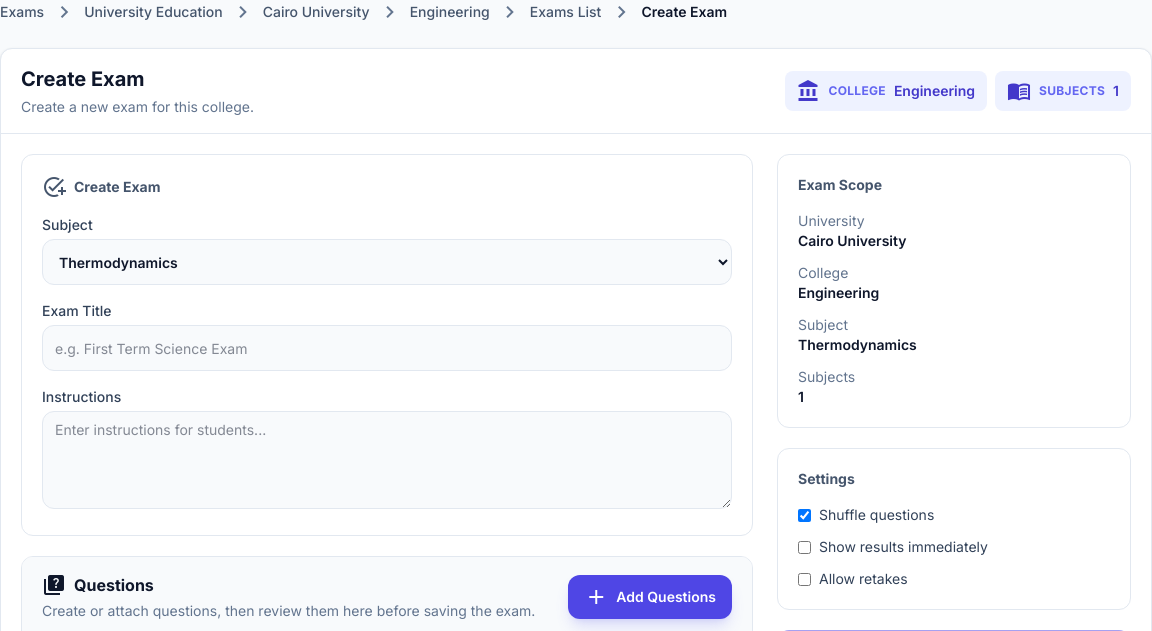
Scenario: TenantExamsBasicEducationExamCreateComponent › opens the selectable questions drawer for university exam saved questions
The image size is (1152, 631).
Click the button "Add Questions".
click(650, 597)  # box [568, 575, 732, 619]
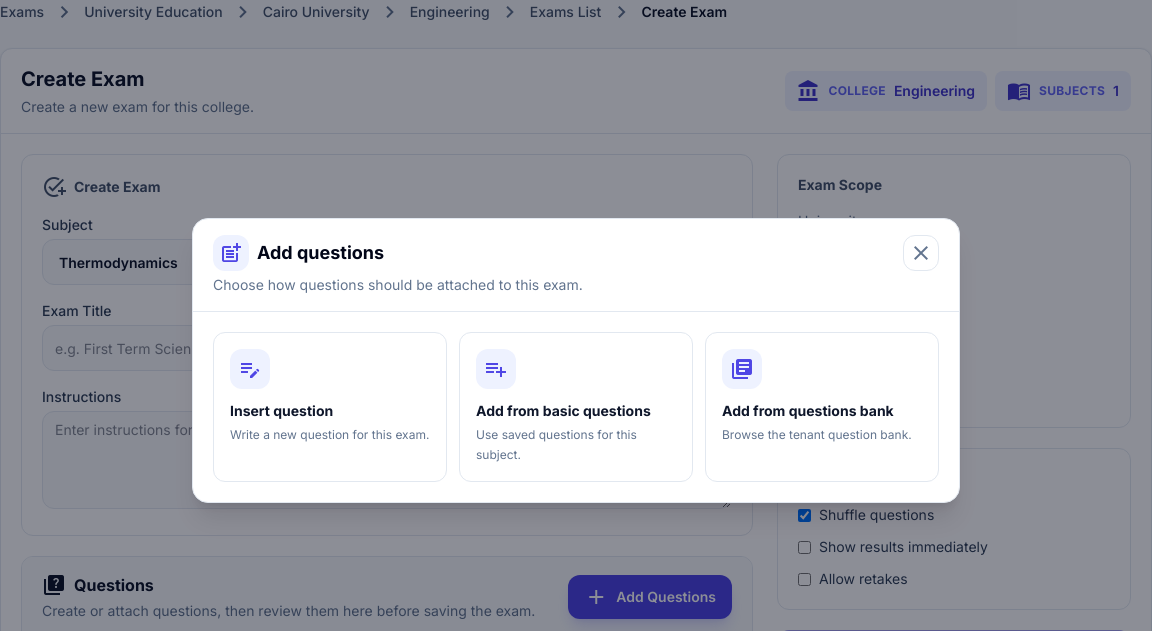
Click the button that starts with "Add from basic questions".
click(576, 406)  # box [459, 332, 693, 482]
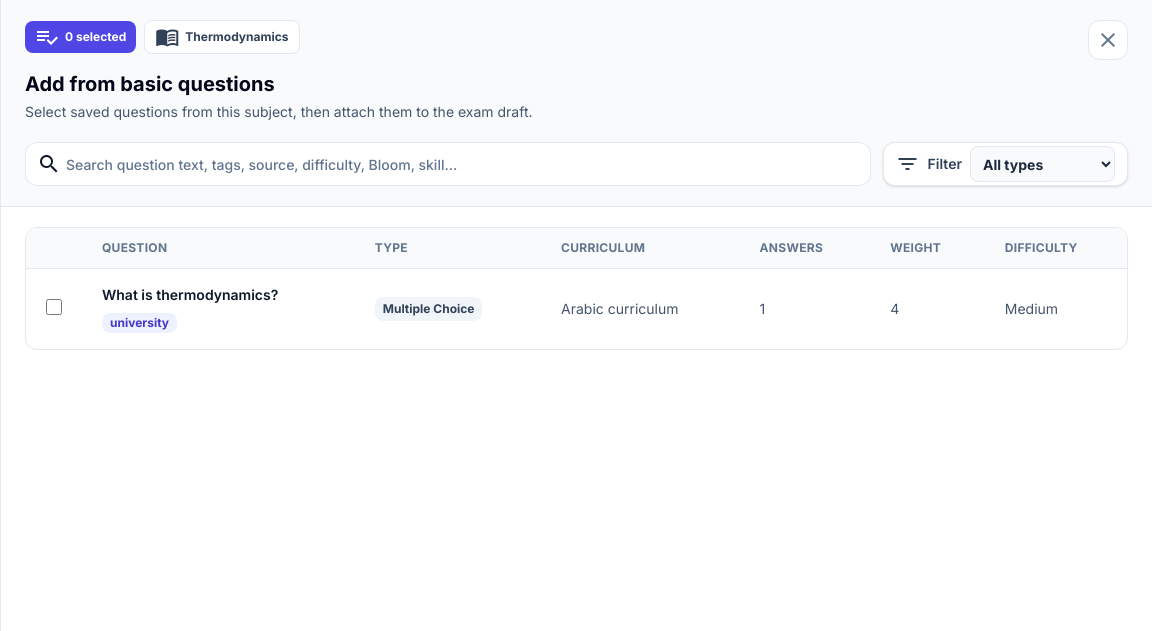
Now the text "Add from basic questions" is shown, box [25, 72, 275, 96]
Now the text "Select saved questions from this subject" is shown, box [25, 103, 533, 120]
Now the text "What is thermodynamics?" is shown, box [102, 286, 278, 303]
